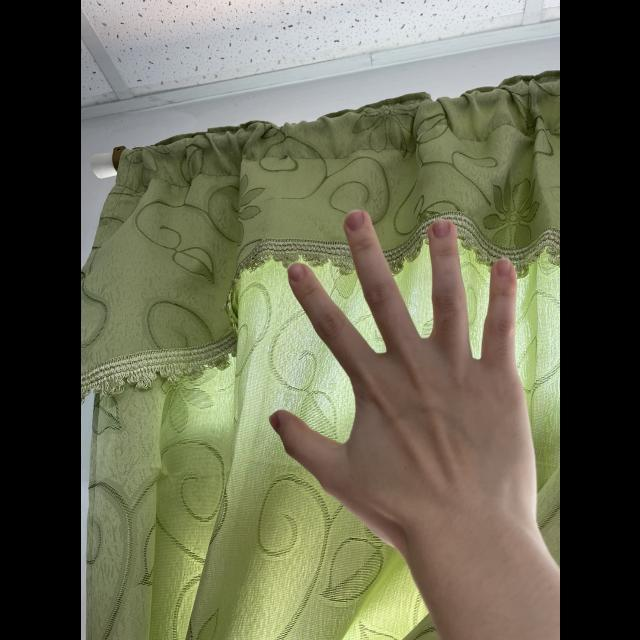bare_hand: (270, 207, 538, 546)
